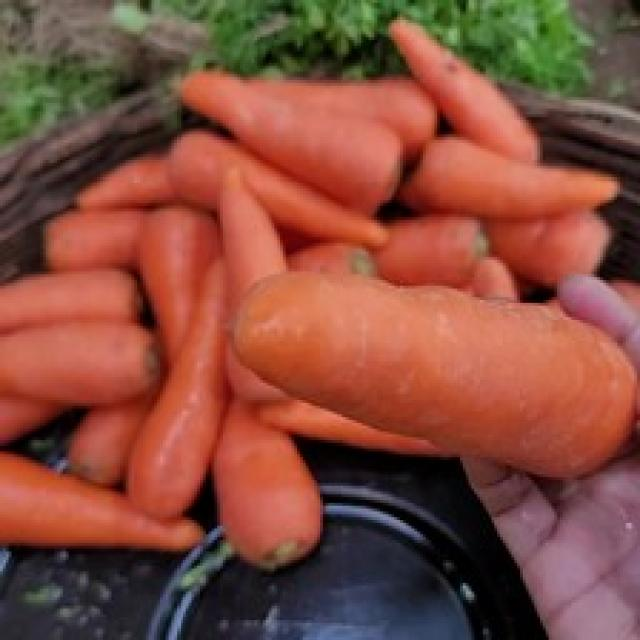Fresh_Carrot: (250, 273, 640, 470), (136, 264, 240, 538)
